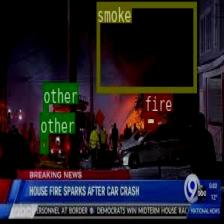fire: (143, 111, 157, 128)
smoke: (96, 1, 196, 92)
